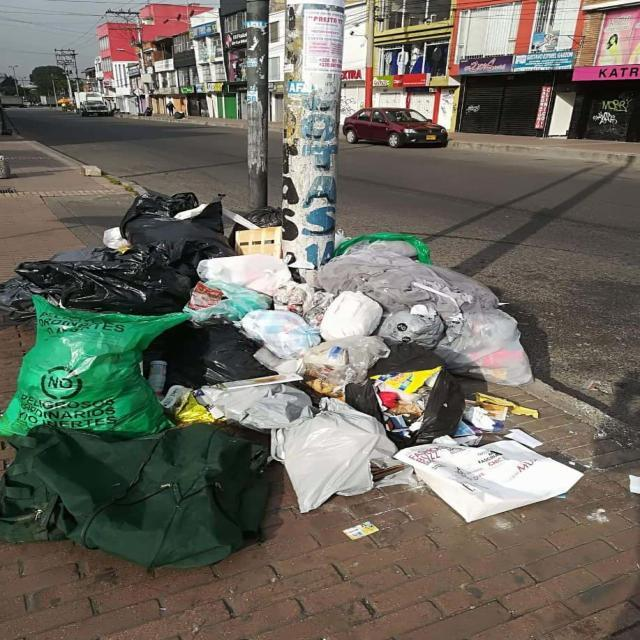garbage: (0, 188, 583, 572)
